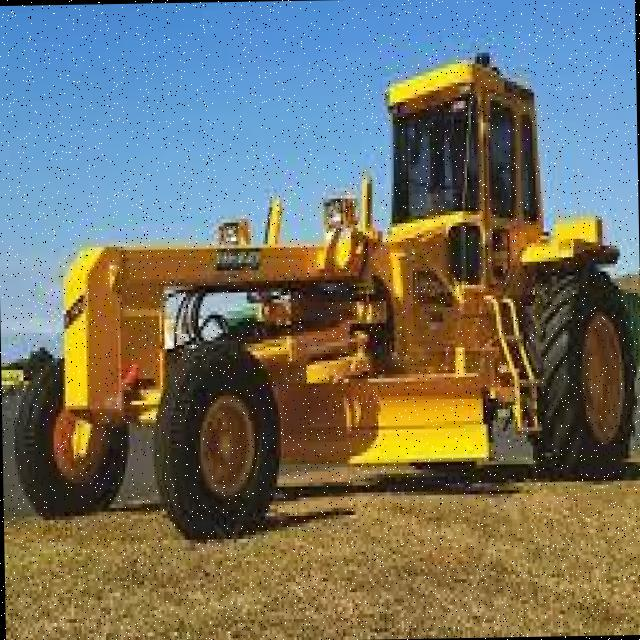Grader: (2, 28, 640, 561)
